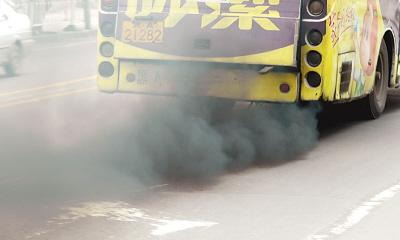smoke: (118, 101, 319, 197)
